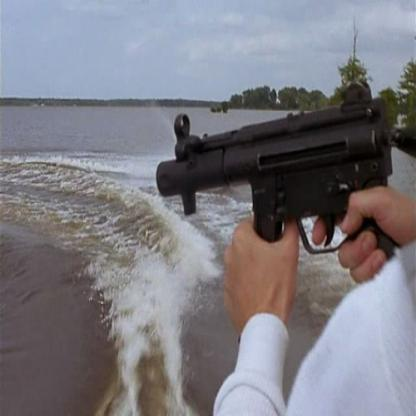Guns: (153, 79, 399, 273)
